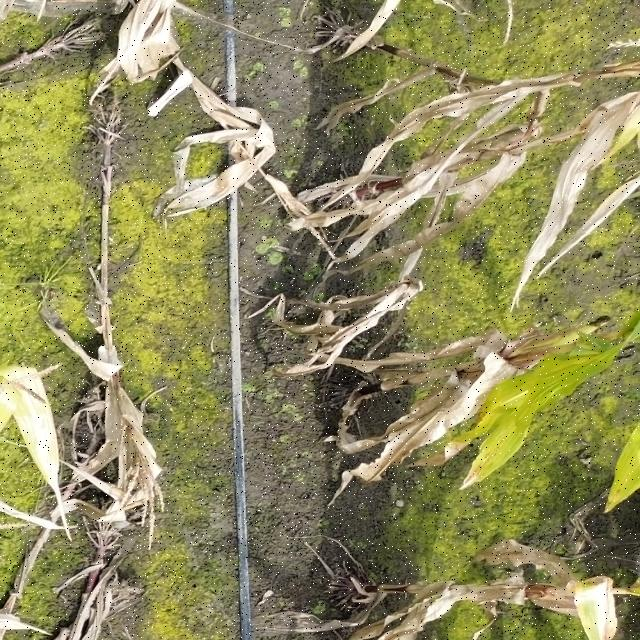northern-leaf-blight: (479, 438, 516, 474)
